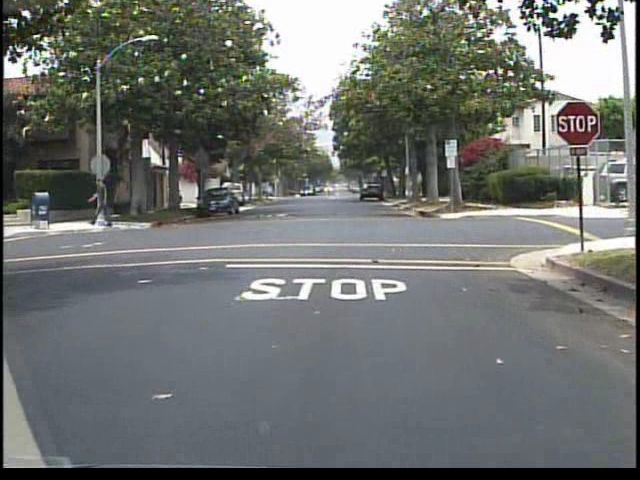person: (88, 171, 117, 234)
